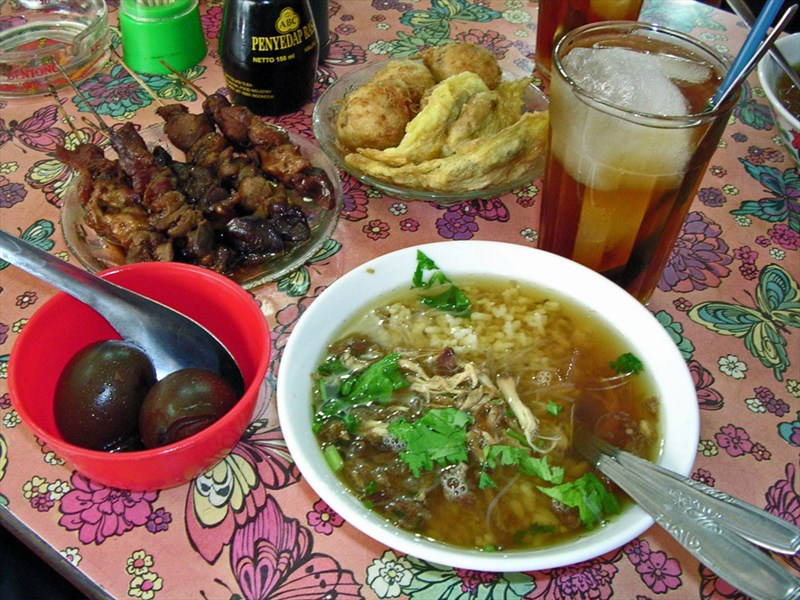Soto Ayam: (47, 79, 678, 581)
